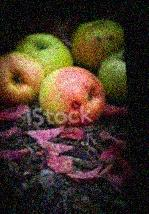rotten apple: (35, 65, 105, 126), (70, 19, 124, 66)
